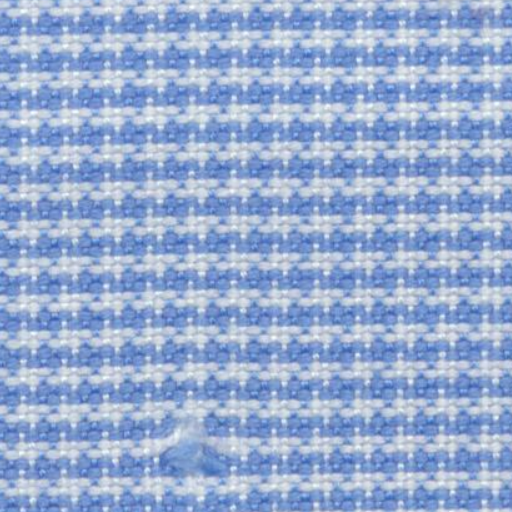MianQiu: (128, 396, 252, 498)
